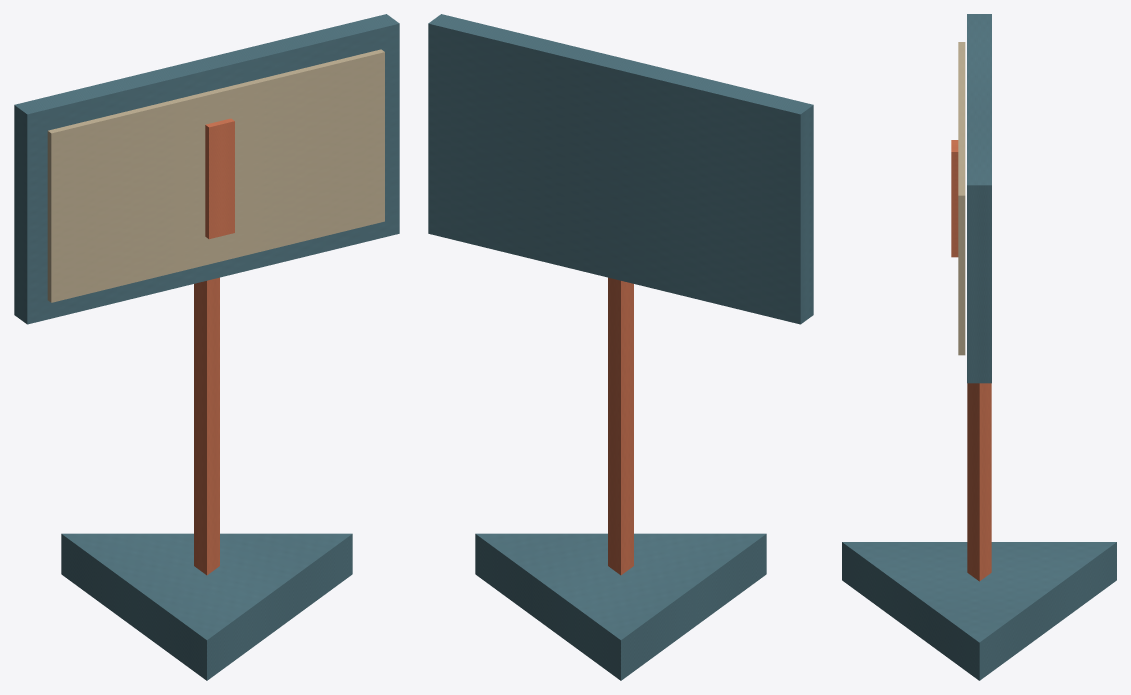
The model's file is atlas100-s043-a11.lod2.glb.
3 views of the same model, side by side, from view 1: azimuth 30°, elevation 25°; view 2: azimuth 150°, elevation 25°; view 3: azimuth 270°, elevation 25° (orthographic). The views are drawn at different scales.
Parts seen in each view (by area): view 1: atlas100-s043-a11:part-003, atlas100-s043-a11:part-002, atlas100-s043-a11:part-000, atlas100-s043-a11:part-001, atlas100-s043-a11:part-005; view 2: atlas100-s043-a11:part-002, atlas100-s043-a11:part-000, atlas100-s043-a11:part-001; view 3: atlas100-s043-a11:part-000, atlas100-s043-a11:part-002, atlas100-s043-a11:part-001, atlas100-s043-a11:part-003, atlas100-s043-a11:part-005.
Part boxes in pixels (<box>): atlas100-s043-a11:part-003: <box>47,49,384,302</box>; atlas100-s043-a11:part-002: <box>14,14,399,324</box>; atlas100-s043-a11:part-000: <box>61,533,352,680</box>; atlas100-s043-a11:part-001: <box>194,277,219,575</box>; atlas100-s043-a11:part-005: <box>205,118,234,239</box>; atlas100-s043-a11:part-002: <box>428,14,813,324</box>; atlas100-s043-a11:part-000: <box>475,533,766,680</box>; atlas100-s043-a11:part-001: <box>608,277,633,575</box>; atlas100-s043-a11:part-000: <box>842,542,1116,680</box>; atlas100-s043-a11:part-002: <box>967,14,991,383</box>; atlas100-s043-a11:part-001: <box>967,383,991,581</box>; atlas100-s043-a11:part-003: <box>958,42,965,355</box>; atlas100-s043-a11:part-005: <box>951,140,958,257</box>.
Bounding box in the file's own units: 1.15 × 1.61 × 0.7794.
3 materials, 3 textured.
